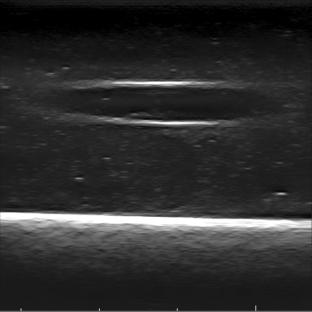vessel: (55, 79, 274, 126)
